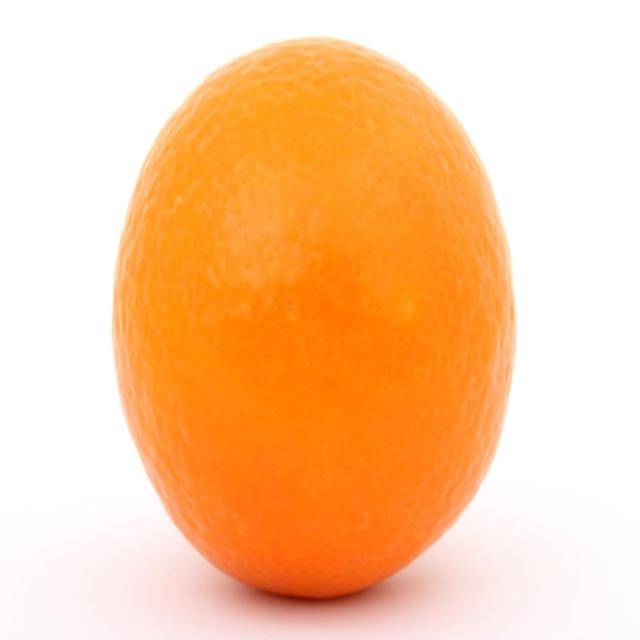orange: (112, 37, 516, 598)
